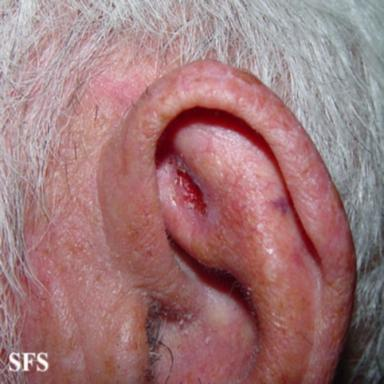basal-cell-carcinoma: (166, 153, 218, 227)
